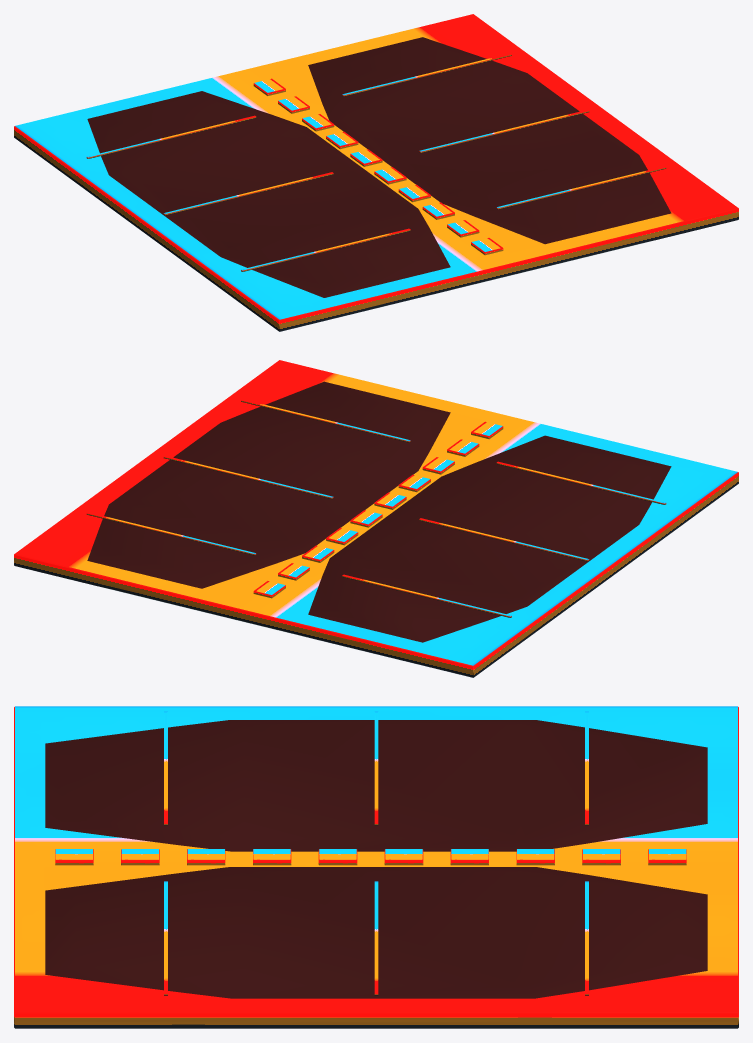
The model's file is Deck_Module.fbx.
3 renders of one model, top to bottom at view 1: azimuth 30°, elevation 25°; view 2: azimuth 150°, elevation 25°; view 3: azimuth 270°, elevation 25°, orthographic. The views are drawn at different scales.
Visible parts, largest first — view 1: Deck_Module; view 2: Deck_Module; view 3: Deck_Module.
Part boxes in pixels (x1,y1,x2,y2): Deck_Module: (14, 14, 738, 331); Deck_Module: (14, 360, 738, 677); Deck_Module: (14, 706, 738, 1028).
Bounding box in the file's own units: 3.96 × 0.141 × 3.96.
